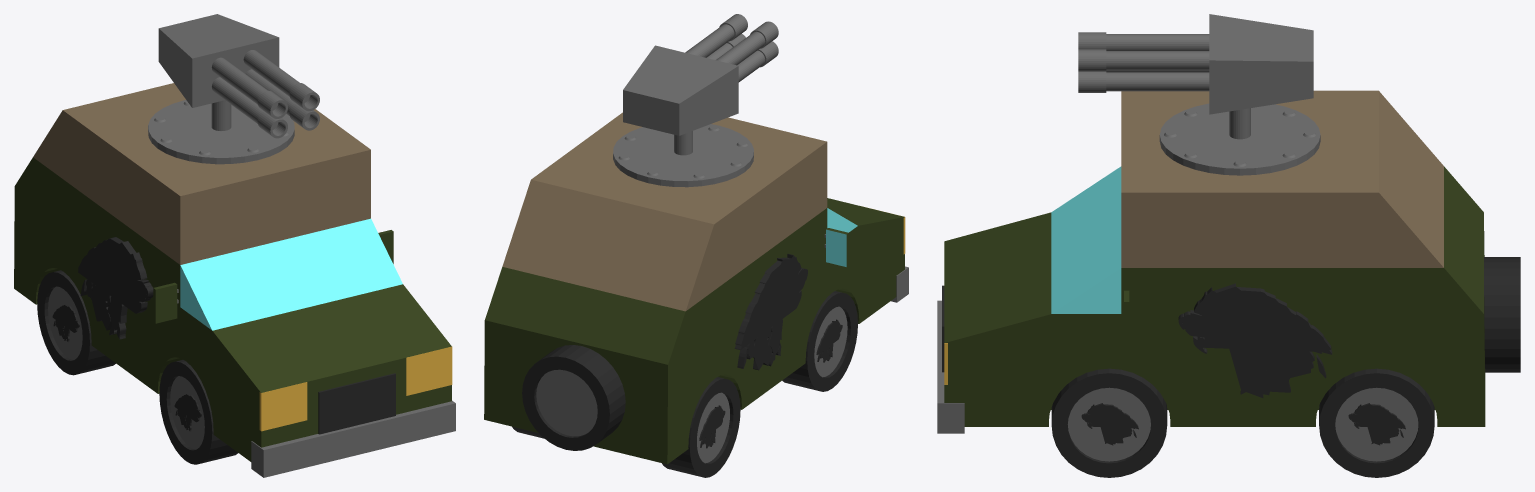
File: basic.fbx
The picture shows the model from 3 angles, left to right: view 1: azimuth 30°, elevation 25°; view 2: azimuth 150°, elevation 25°; view 3: azimuth 270°, elevation 25°; orthographic projection. The views are drawn at different scales.
Visible parts, largest first — view 1: ciało, działo, ciało.004, światła; view 2: ciało, działo, ciało.004; view 3: ciało, ciało.004, działo, ciało.001.
Part boxes in pixels (x1,y1,x2,y2): ciało: (14, 83, 455, 477); działo: (158, 14, 319, 138); ciało.004: (37, 270, 237, 464); światła: (259, 346, 452, 431); ciało: (484, 112, 908, 464); działo: (623, 14, 778, 135); ciało.004: (512, 291, 857, 477); ciało: (937, 90, 1520, 433); ciało.004: (1051, 368, 1434, 477); działo: (1078, 14, 1313, 114); ciało.001: (1178, 283, 1332, 397).
Bounding box in the file's own units: 197 × 282 × 383.
